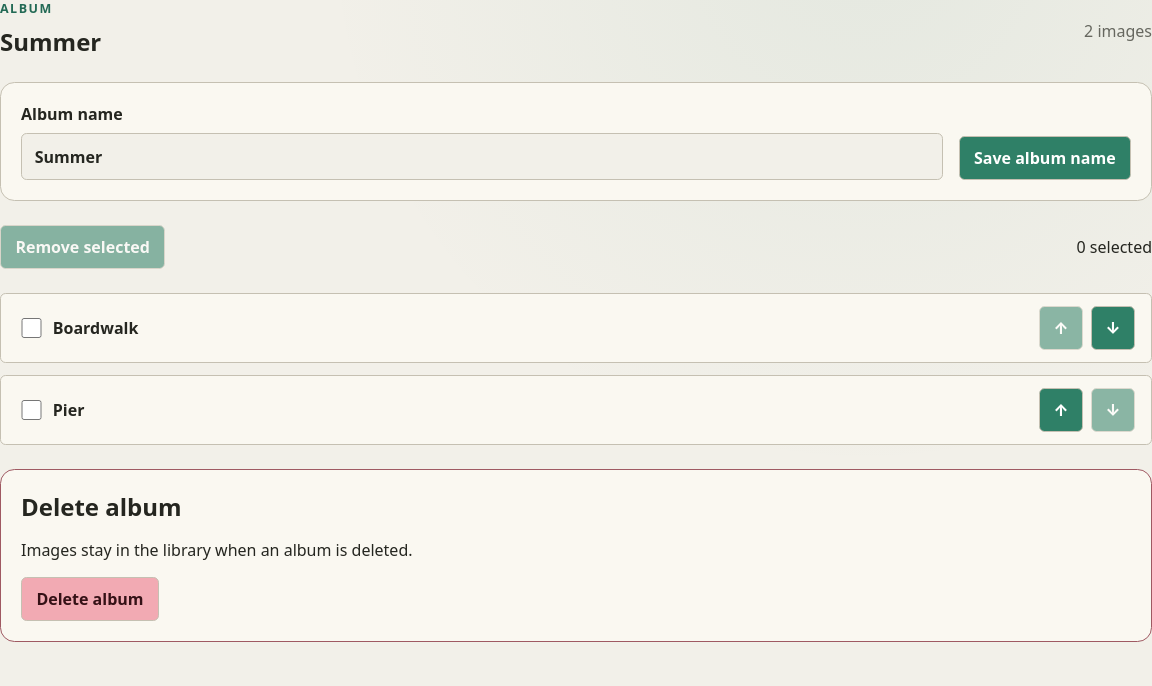
Test: curation albums › offers button ordering and reports each removed item
This screenshot has width=1152, height=686.
Expected: the heading "Summer" is shown, [0,25,101,58]
Click the button named "Move Pier up" at (1061, 410), box [1039,388,1083,432]
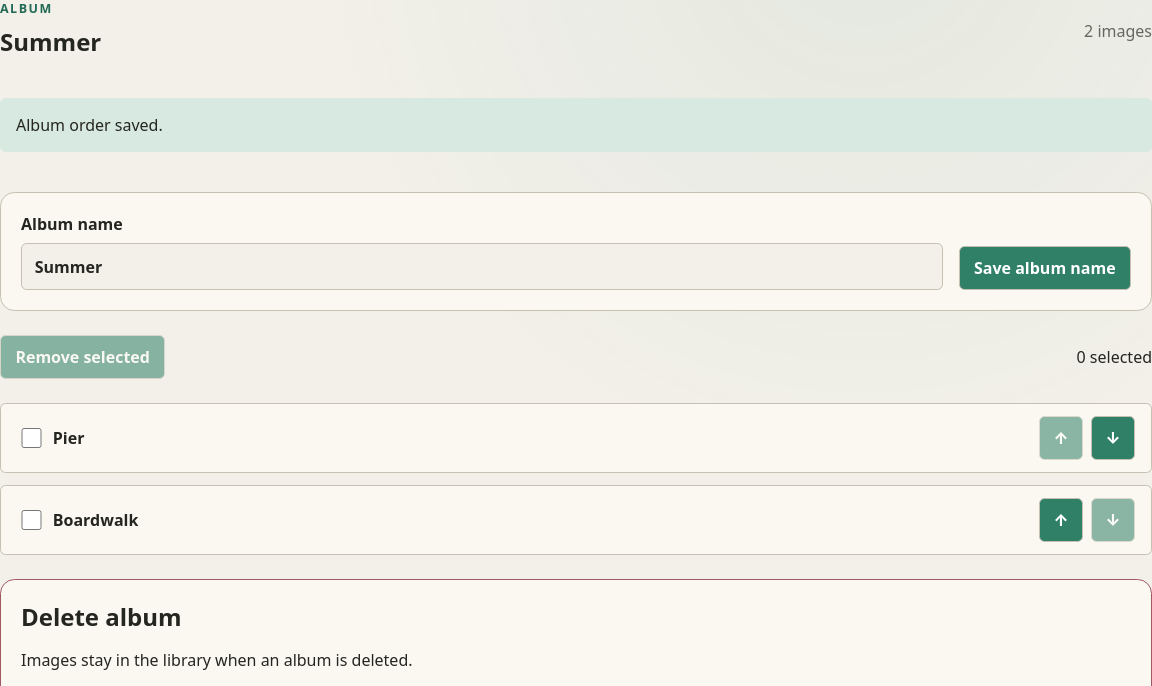
Click the checkbox named "Select Pier" at (31, 438), box [21,428,42,448]
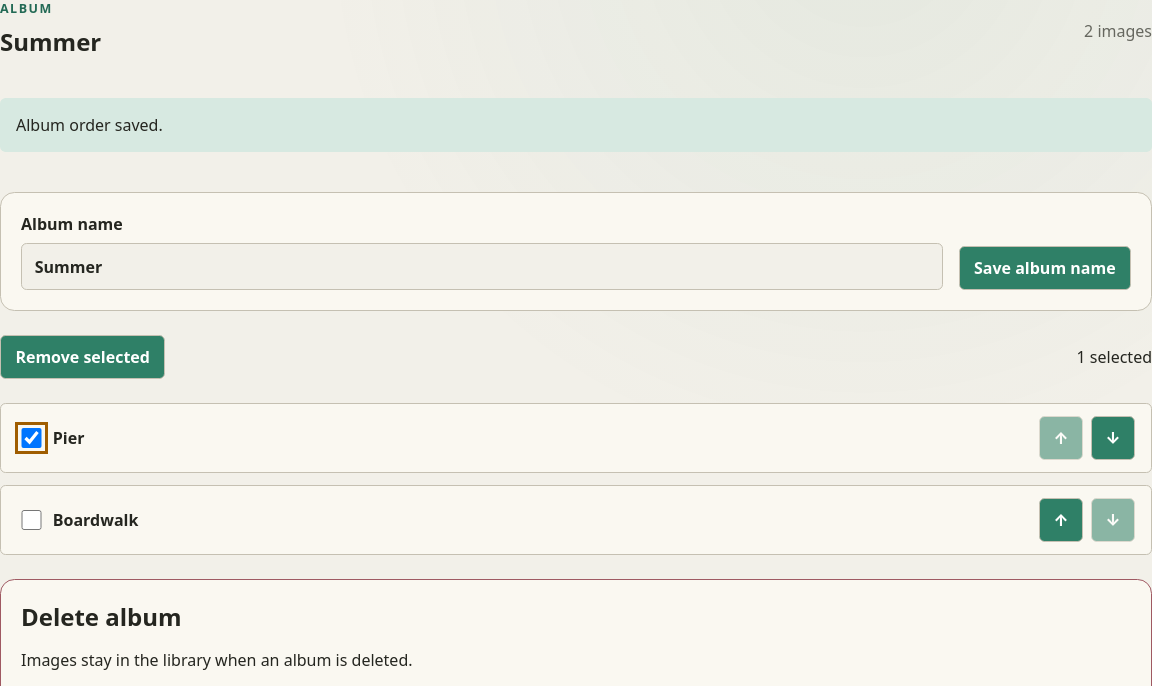
Click the button "Remove selected" at (83, 357), box [0,335,165,379]
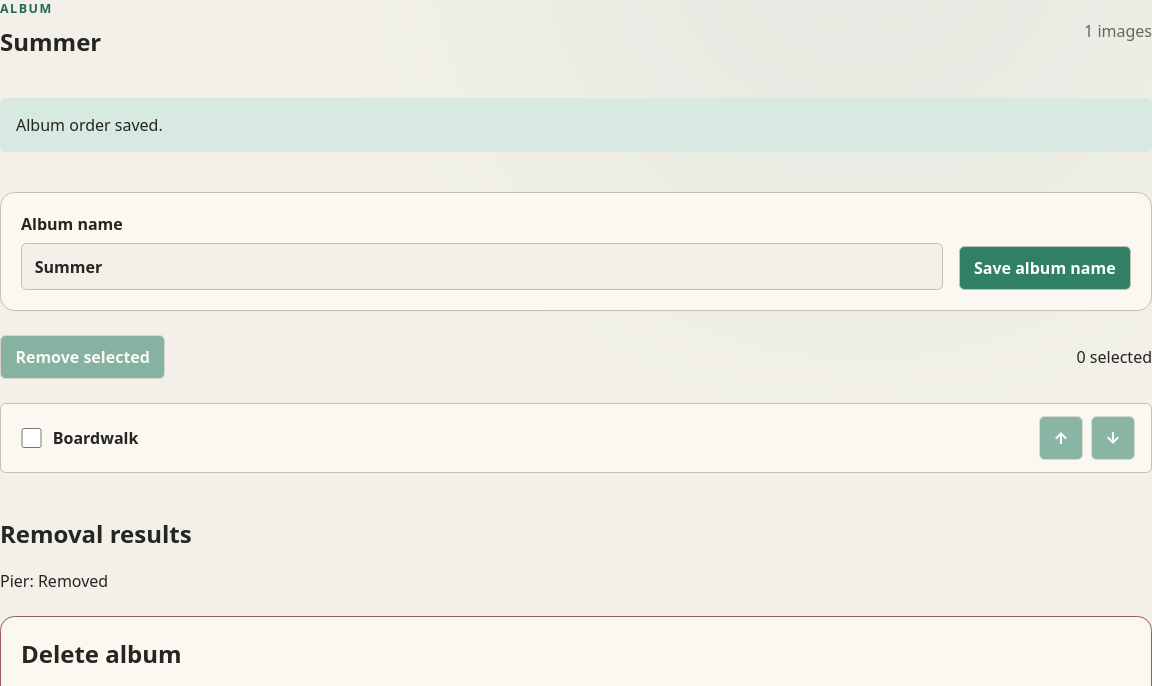
Expected: the list item "Pier: Removed" is shown, [0,570,108,592]
